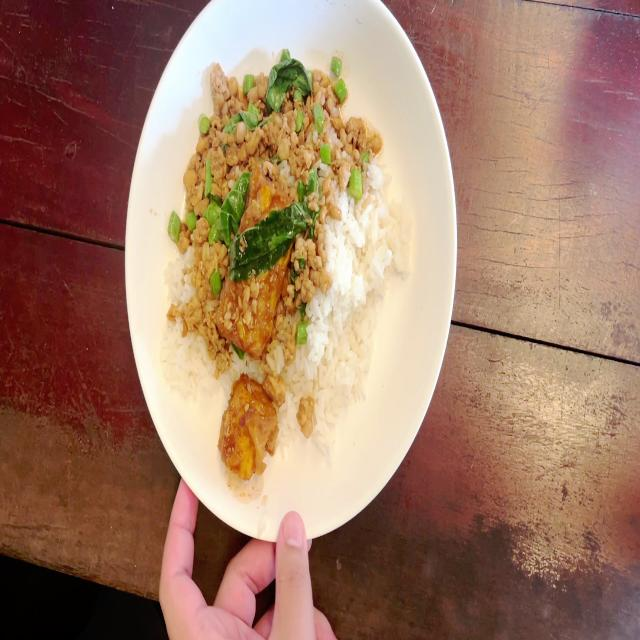fried_tofo: (223, 177, 303, 340), (218, 378, 274, 486)
minced_pork: (228, 64, 380, 174), (176, 71, 234, 344), (295, 177, 329, 308)
rice: (323, 174, 406, 312), (293, 312, 384, 432), (169, 346, 265, 380)
stir_fried_basil: (167, 54, 412, 477)
